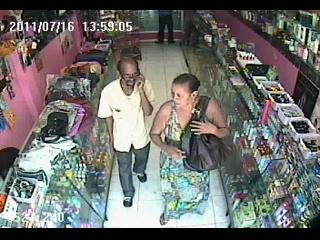Normal: (150, 73, 232, 226), (97, 56, 157, 207), (154, 10, 176, 44), (75, 50, 108, 65)
